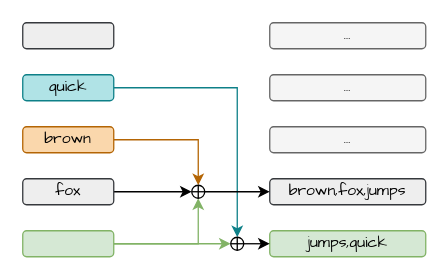
Some shapes in this 448 by 280 pixel diagram are drawn without their labels. The centre of each missing label's shape, as x and y in pixels:
jumps: the point at 67,243
The: the point at 67,35
